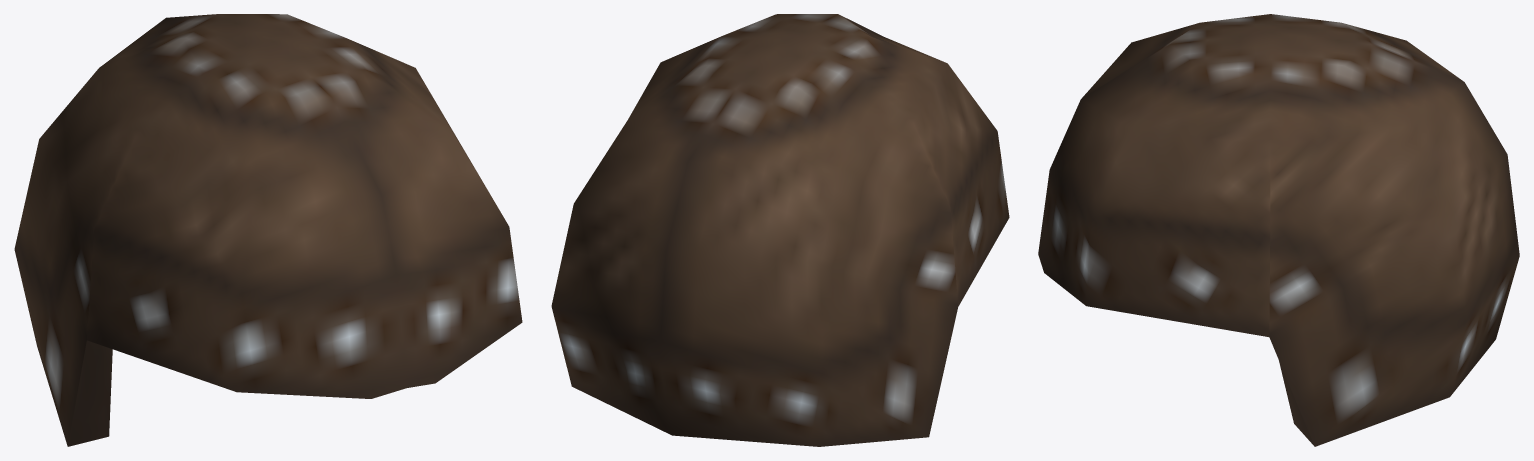
The model's file is headLeather.fbx.
3 renders of one model, left to right at view 1: azimuth 30°, elevation 25°; view 2: azimuth 150°, elevation 25°; view 3: azimuth 270°, elevation 25°, orthographic. The views are drawn at different scales.
Visible parts, largest first — view 1: headLeather; view 2: headLeather; view 3: headLeather.
Boxes of the visible parts, x1,y1,x2,y2 form: headLeather: [14, 14, 522, 446]; headLeather: [551, 14, 1009, 446]; headLeather: [1038, 14, 1519, 446].
Bounding box in the file's own units: 1.38 × 1.31 × 1.71.
